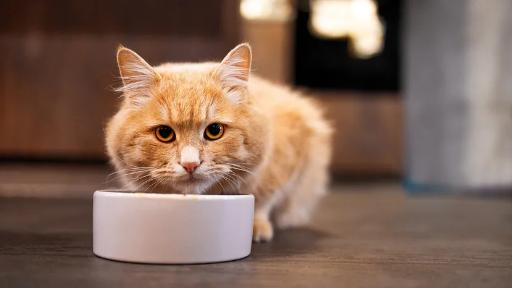cat_eating: (93, 43, 331, 264)
